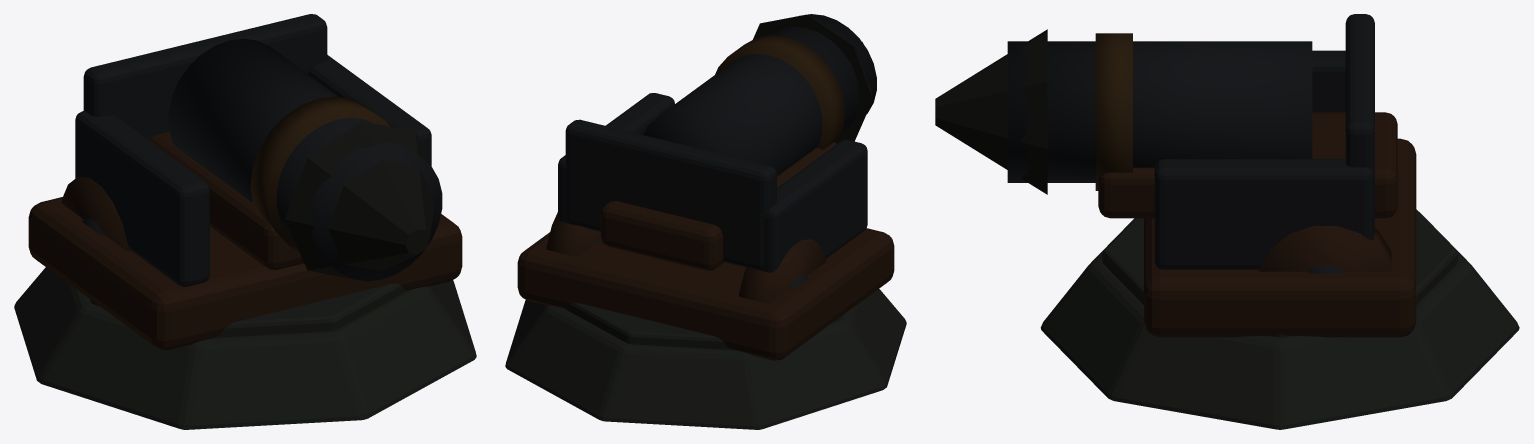
The model's file is TowerDestroy1.obj.
3 renders of one model, left to right at view 1: azimuth 30°, elevation 25°; view 2: azimuth 150°, elevation 25°; view 3: azimuth 270°, elevation 25°, orthographic. The views are drawn at different scales.
Visible parts, largest first — view 1: rough_stone_foundation_lower_course, reinforced_oak_sled, black_ram_barrel, stone_breaker_head, iron_ram_cheek, iron_ram_mantle, bronze_ram_band, oak_ram_bed, rough_stone_foundation_upper_course, iron_ram_cheek.001, heavy_wood_wheel; view 2: rough_stone_foundation_lower_course, reinforced_oak_sled, iron_ram_mantle, black_ram_barrel, iron_ram_cheek, oak_ram_bed, bronze_ram_band, rough_stone_foundation_upper_course, heavy_wood_wheel, stone_breaker_head, iron_ram_cheek.001, heavy_wood_wheel.001; view 3: rough_stone_foundation_lower_course, black_ram_barrel, reinforced_oak_sled, iron_ram_cheek.001, stone_breaker_head, oak_ram_bed, bronze_ram_band, heavy_wood_wheel.001, iron_ram_mantle, rough_stone_foundation_upper_course, iron_ram_cheek.
Part boxes in pixels (box(x1,y1,x2,y2)): rough_stone_foundation_lower_course: box(14, 267, 476, 429); reinforced_oak_sled: box(28, 197, 462, 349); black_ram_barrel: box(168, 38, 442, 281); stone_breaker_head: box(285, 121, 434, 280); iron_ram_cheek: box(75, 111, 209, 286); iron_ram_mantle: box(83, 14, 327, 140); bronze_ram_band: box(250, 96, 390, 250); oak_ram_bed: box(149, 131, 303, 269); rough_stone_foundation_upper_course: box(90, 283, 408, 337); iron_ram_cheek.001: box(308, 55, 431, 166); heavy_wood_wheel: box(61, 177, 130, 251); rough_stone_foundation_lower_course: box(505, 289, 906, 429); reinforced_oak_sled: box(517, 228, 894, 360); iron_ram_mantle: box(565, 119, 776, 269); black_ram_barrel: box(643, 14, 876, 176); iron_ram_cheek: box(754, 140, 867, 272); oak_ram_bed: box(600, 142, 836, 270); bronze_ram_band: box(715, 35, 845, 149); rough_stone_foundation_upper_course: box(564, 303, 840, 349); heavy_wood_wheel: box(739, 239, 826, 303); stone_breaker_head: box(753, 14, 872, 143); iron_ram_cheek.001: box(558, 93, 674, 225); heavy_wood_wheel.001: box(546, 212, 600, 256); rough_stone_foundation_lower_course: box(1040, 212, 1519, 429); black_ram_barrel: box(1007, 41, 1312, 182); reinforced_oak_sled: box(1144, 138, 1416, 337); iron_ram_cheek.001: box(1154, 159, 1373, 269); stone_breaker_head: box(935, 29, 1047, 194); oak_ram_bed: box(1098, 112, 1397, 218); bronze_ram_band: box(1095, 33, 1132, 190); heavy_wood_wheel.001: box(1259, 226, 1391, 271); iron_ram_mantle: box(1345, 14, 1374, 233); rough_stone_foundation_upper_course: box(1102, 209, 1457, 337); iron_ram_cheek: box(1312, 50, 1345, 112).
Size of the model in its own units: 1.79 by 1.23 by 2.19.
